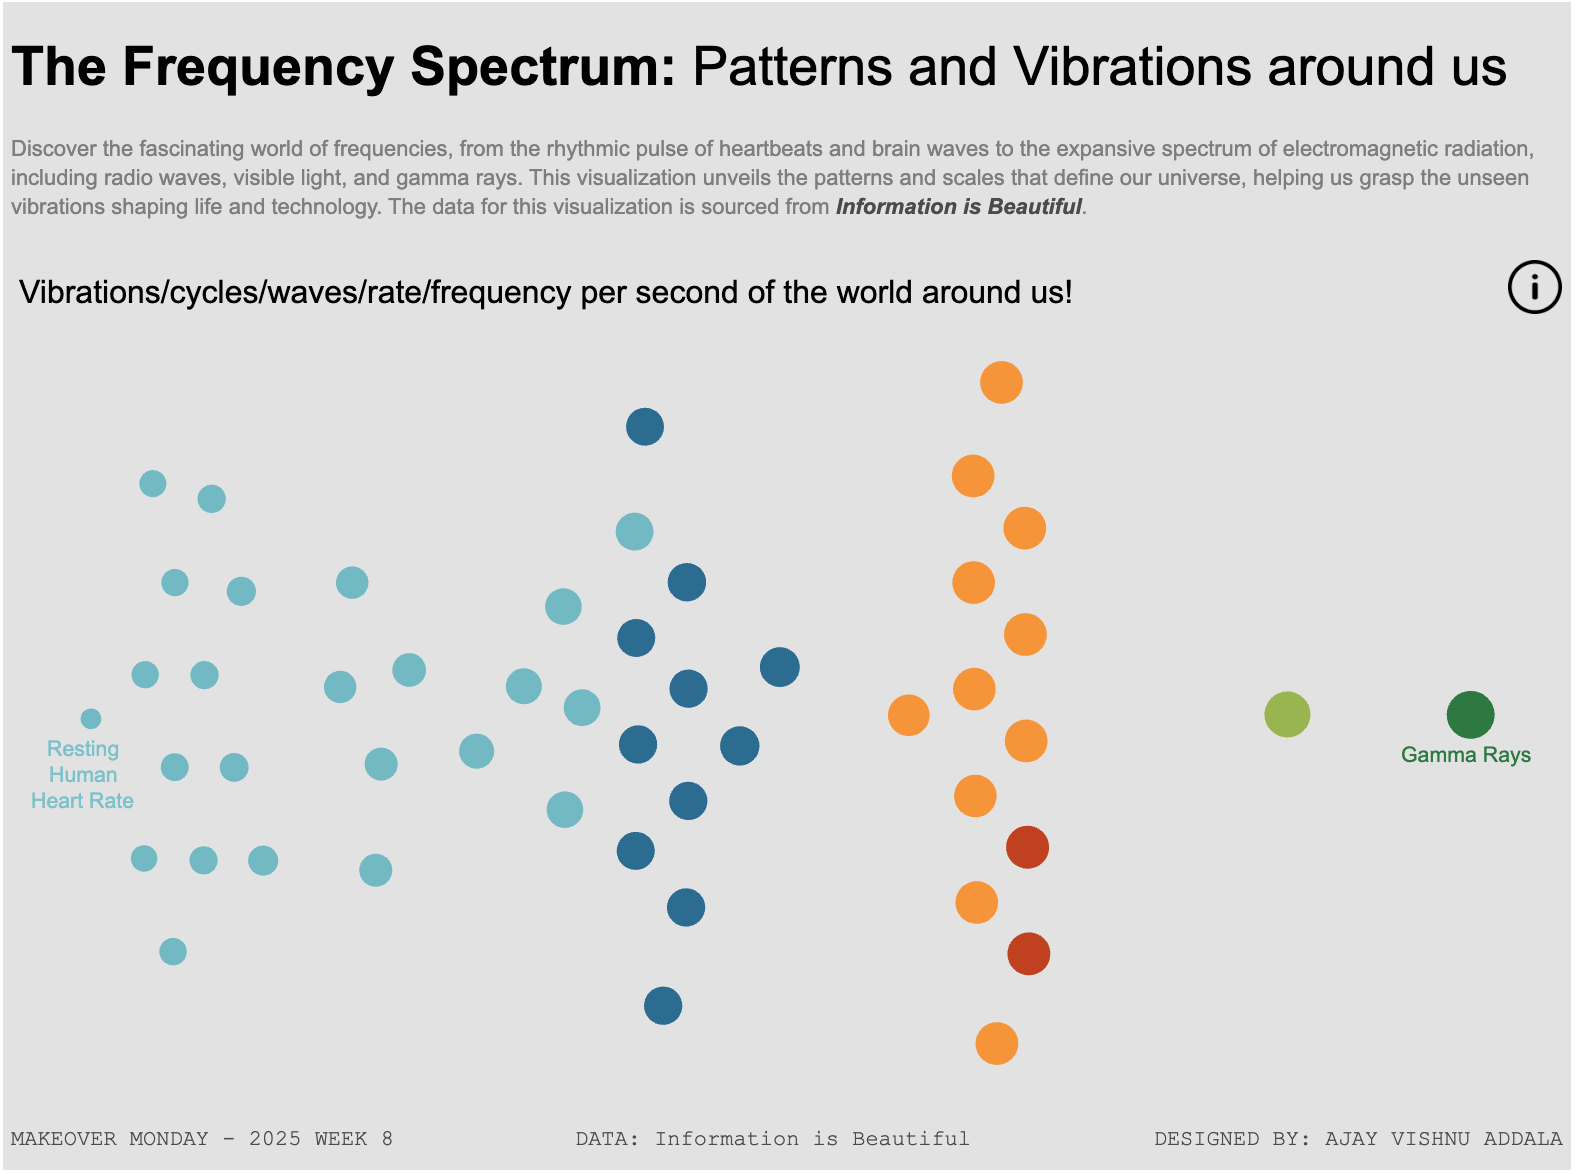

The dashboard page shown, as its layout file describes it:
{"tool":"tableau","page":{"name":"MOM2025 W8","canvas":[800,600],"ordinal":0},"visuals":[{"type":"text","box":[8,8,784,125]},{"type":"worksheet","title":"Beeswarm","mark":"Circle","rows":["y"],"cols":["x"],"box":[8,133,784,427]},{"type":"worksheet","title":"Info","mark":"Automatic","box":[545,137,215,115]},{"type":"dashboard-object","box":[760,137,28,27]},{"type":"text","box":[8,560,261.3,32]},{"type":"text","box":[269.3,560,247.7,32]},{"type":"text","box":[517,560,275,32]}]}

Visuals, with their boxes in screenshot pixels (x1, y1, x2, y2), scaled from the page's 800x600 canvas onto the 1576x1174 screenshot:
text: Rect(16, 16, 1560, 260)
"Beeswarm" worksheet (Circle marks): Rect(16, 260, 1560, 1096)
"Info" worksheet: Rect(1074, 268, 1497, 493)
dashboard-object: Rect(1497, 268, 1552, 321)
text: Rect(16, 1096, 531, 1158)
text: Rect(531, 1096, 1018, 1158)
text: Rect(1018, 1096, 1560, 1158)
